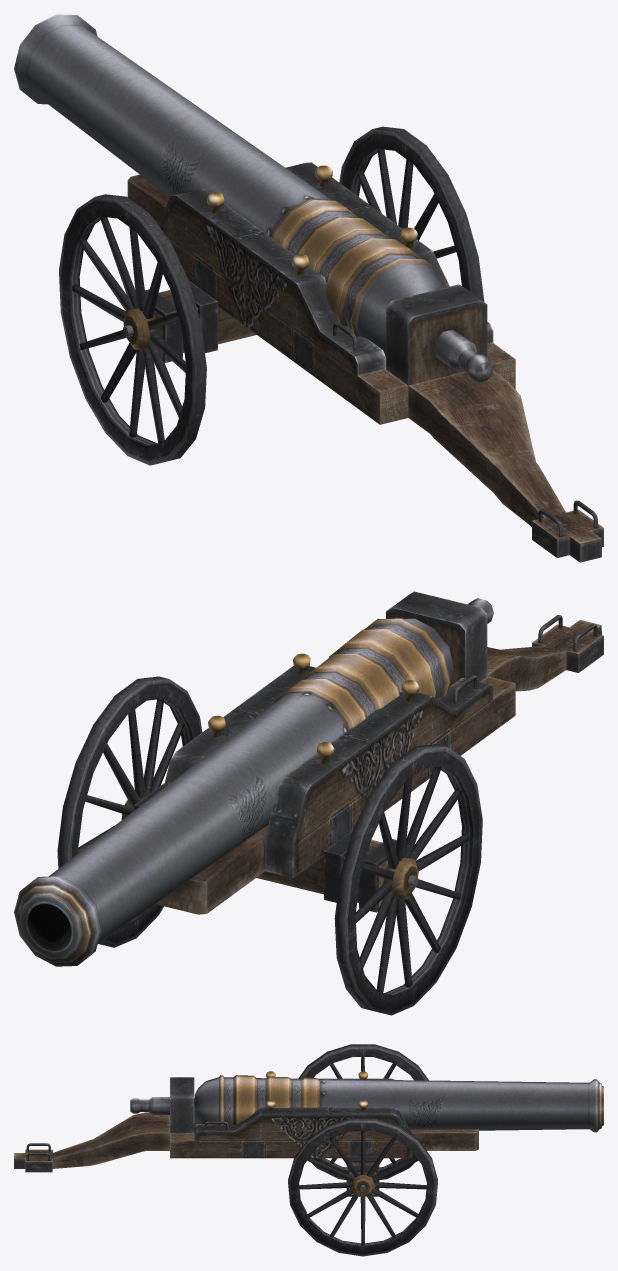
Rendered from cannon.glb.
3 views of the same model, one above another, from view 1: azimuth 30°, elevation 25°; view 2: azimuth 150°, elevation 25°; view 3: azimuth 270°, elevation 25° (orthographic). The views are drawn at different scales.
Parts seen in each view (by area): view 1: Body__basilisk; view 2: Body__basilisk; view 3: Body__basilisk.
Boxes of the visible parts, <box> form: Body__basilisk: <box>14,14,603,562</box>; Body__basilisk: <box>14,591,603,1015</box>; Body__basilisk: <box>14,1044,603,1256</box>.
Bounding box in the file's own units: 1.8 × 1.52 × 5.79.
1 material, 1 textured.
